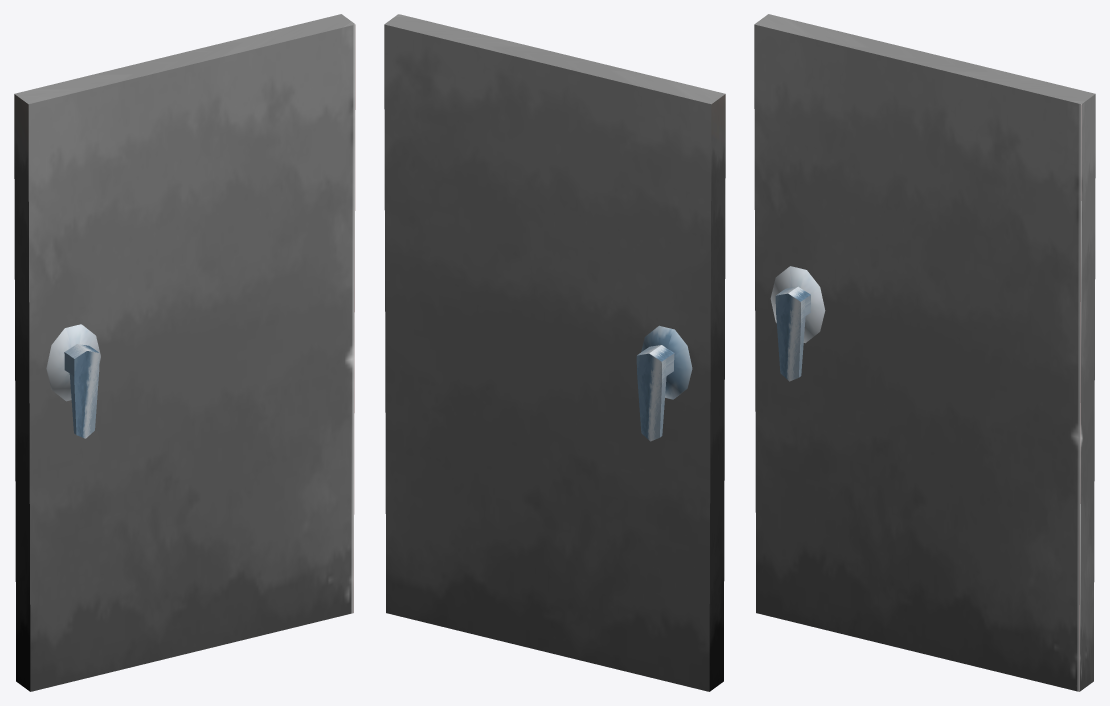
The model's file is Obj_Door_005.gltf.
The picture shows the model from 3 angles, left to right: view 1: azimuth 30°, elevation 25°; view 2: azimuth 150°, elevation 25°; view 3: azimuth 330°, elevation 25°; orthographic projection.
Visible parts, largest first — view 1: Obj_Door_005, Obj_DoorHandle.005; view 2: Obj_Door_005, Obj_DoorHandle.005; view 3: Obj_Door_005, Obj_DoorHandle.005.
Boxes of the visible parts, bbox=[...] form: Obj_Door_005: bbox=[14, 14, 355, 691]; Obj_DoorHandle.005: bbox=[64, 344, 99, 438]; Obj_Door_005: bbox=[384, 14, 725, 691]; Obj_DoorHandle.005: bbox=[636, 345, 674, 441]; Obj_Door_005: bbox=[754, 14, 1095, 691]; Obj_DoorHandle.005: bbox=[775, 286, 810, 381].
Size of what is drawn, in the model's own units: 1.48 by 2.55 by 0.3342.
Materials: 1 (1 with a texture image).
